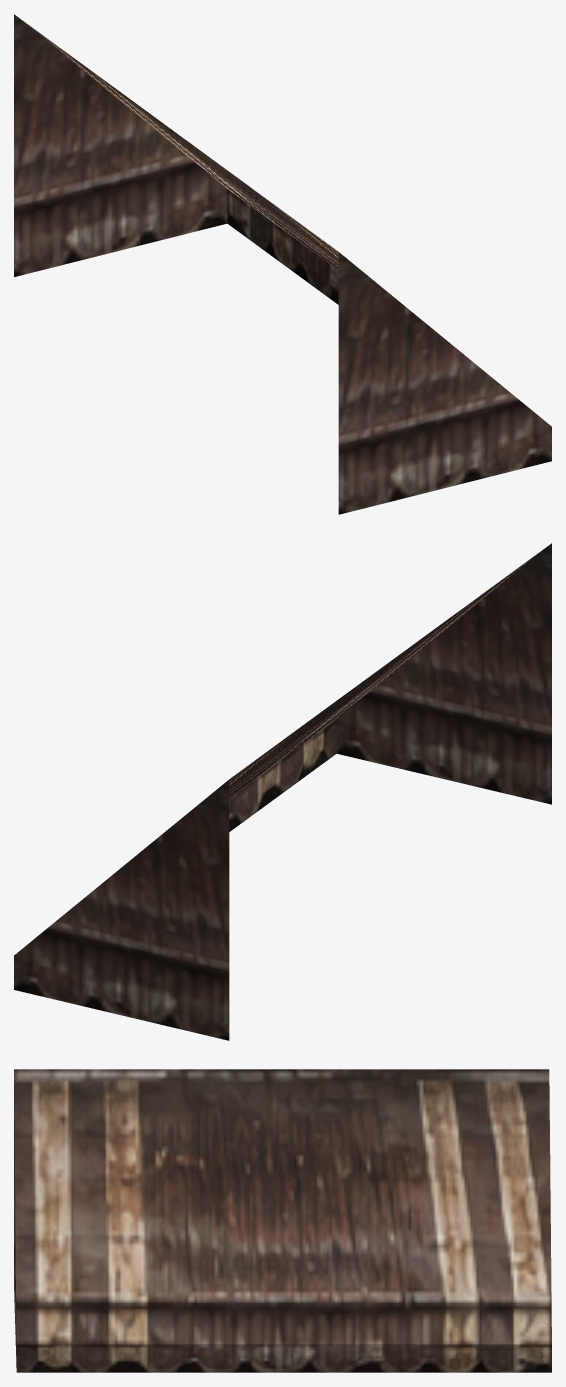
The model's file is B13_Tent.fbx.
3 renders of one model, top to bottom at view 1: azimuth 30°, elevation 25°; view 2: azimuth 150°, elevation 25°; view 3: azimuth 270°, elevation 25°, orthographic. The views are drawn at different scales.
Parts seen in each view (by area): view 1: B13_Tent; view 2: B13_Tent; view 3: B13_Tent.
Boxes of the visible parts, box(x1,y1,x2,y2) form: B13_Tent: box(14, 14, 551, 514); B13_Tent: box(14, 543, 551, 1040); B13_Tent: box(14, 1069, 551, 1372).
Size of the model in its own units: 0.1684 by 0.1969 by 0.4424.
1 material, 1 textured.
